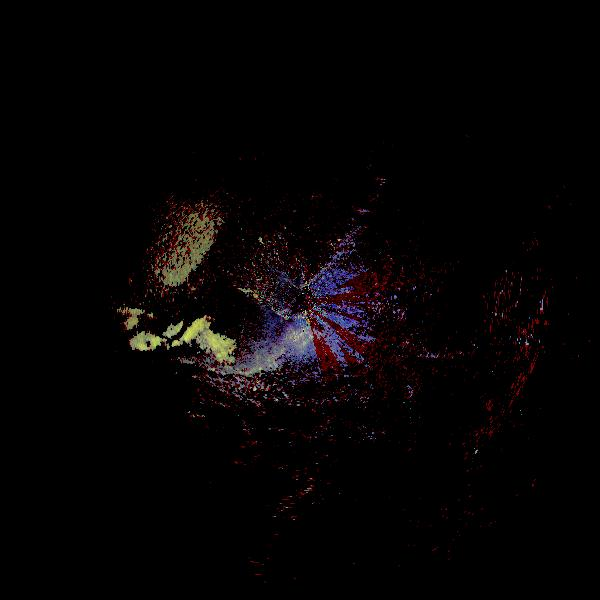roost: (104, 286, 254, 436)
